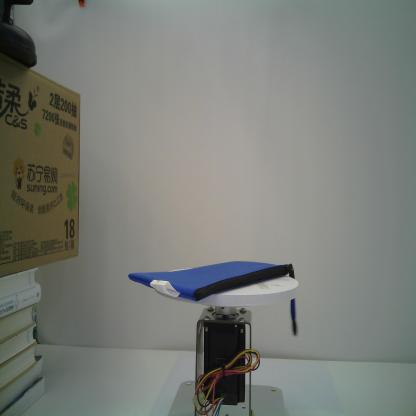Stationery: (128, 261, 296, 336)
